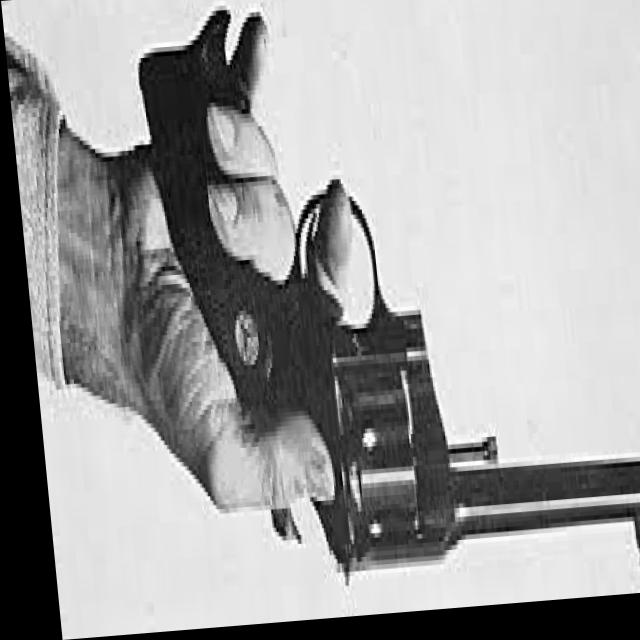handgun: (129, 10, 640, 623)
